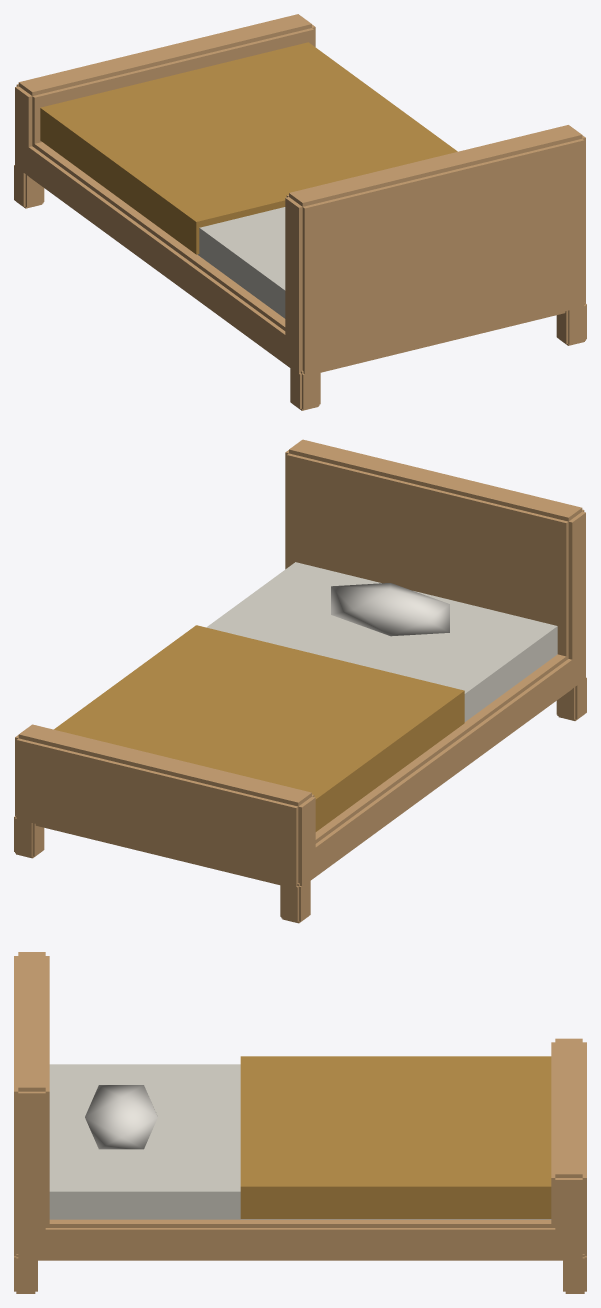
File: palm_bed_v0.glb
3 views of the same model, one above another, from view 1: azimuth 30°, elevation 25°; view 2: azimuth 150°, elevation 25°; view 3: azimuth 270°, elevation 25° (orthographic).
Visible parts, largest first — view 1: palm_bed_v0; view 2: palm_bed_v0; view 3: palm_bed_v0.
Part boxes in pixels (<box>): palm_bed_v0: <box>14,14,586,410</box>; palm_bed_v0: <box>14,439,586,923</box>; palm_bed_v0: <box>14,952,586,1293</box>.
Size of the model in its own units: 1.38 by 0.95 by 2.4.
